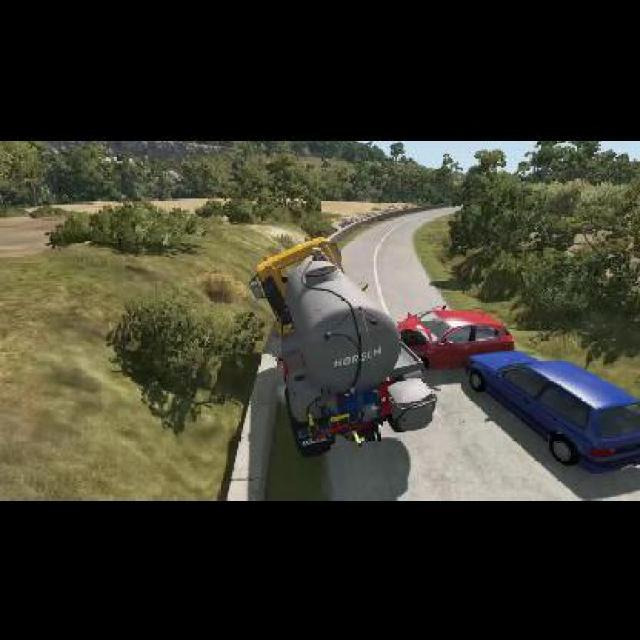accident: (252, 234, 520, 455), (386, 301, 639, 474)
